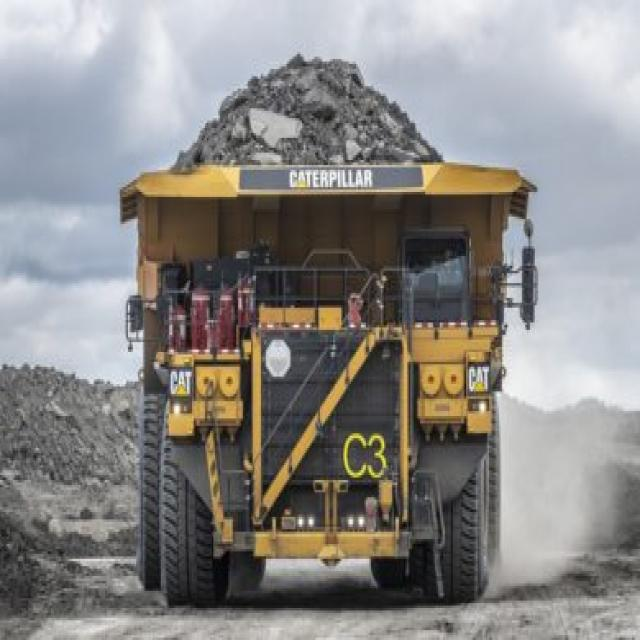dump_truck: (112, 52, 553, 615)
